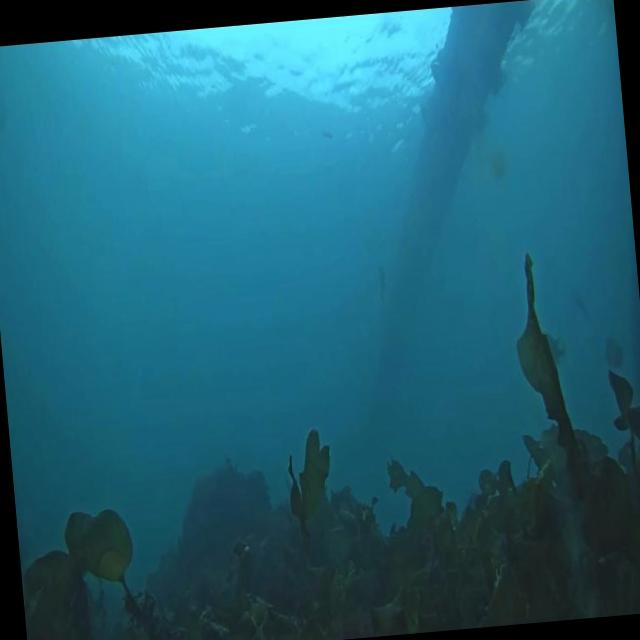fish: (375, 262, 391, 312), (544, 332, 565, 364), (571, 297, 594, 326), (604, 338, 622, 368), (320, 128, 334, 140)
